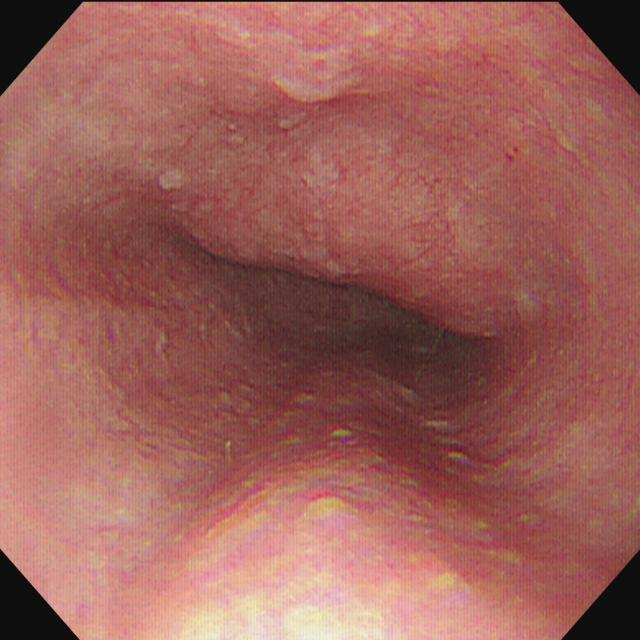A: (192, 351, 509, 601), (176, 152, 547, 341)
E: (159, 200, 508, 412)
